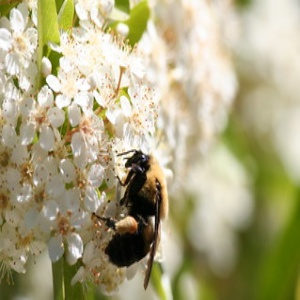bee: (92, 145, 175, 294)
